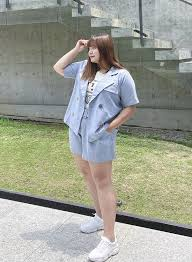people: (52, 34, 137, 262)
